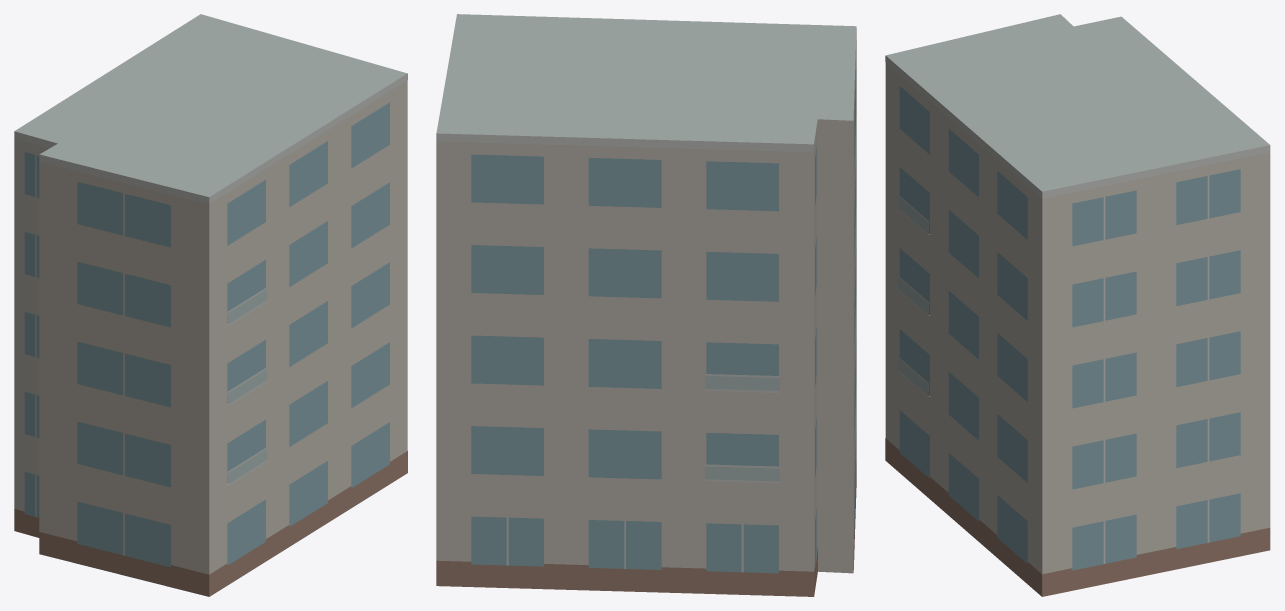
Rendered from survey-upis-32743337.glb.
3 renders of one model, left to right at view 1: azimuth 30°, elevation 25°; view 2: azimuth 150°, elevation 25°; view 3: azimuth 270°, elevation 25°, orthographic. The views are drawn at different scales.
Visible parts, largest first — view 1: survey-upis-32743337.tmp; view 2: survey-upis-32743337.tmp; view 3: survey-upis-32743337.tmp.
Boxes of the visible parts, x1,y1,x2,y2 form: survey-upis-32743337.tmp: (14, 14, 407, 596); survey-upis-32743337.tmp: (436, 14, 856, 596); survey-upis-32743337.tmp: (885, 14, 1270, 596).
Bounding box in the file's own units: 13.15 × 13.97 × 12.04.
